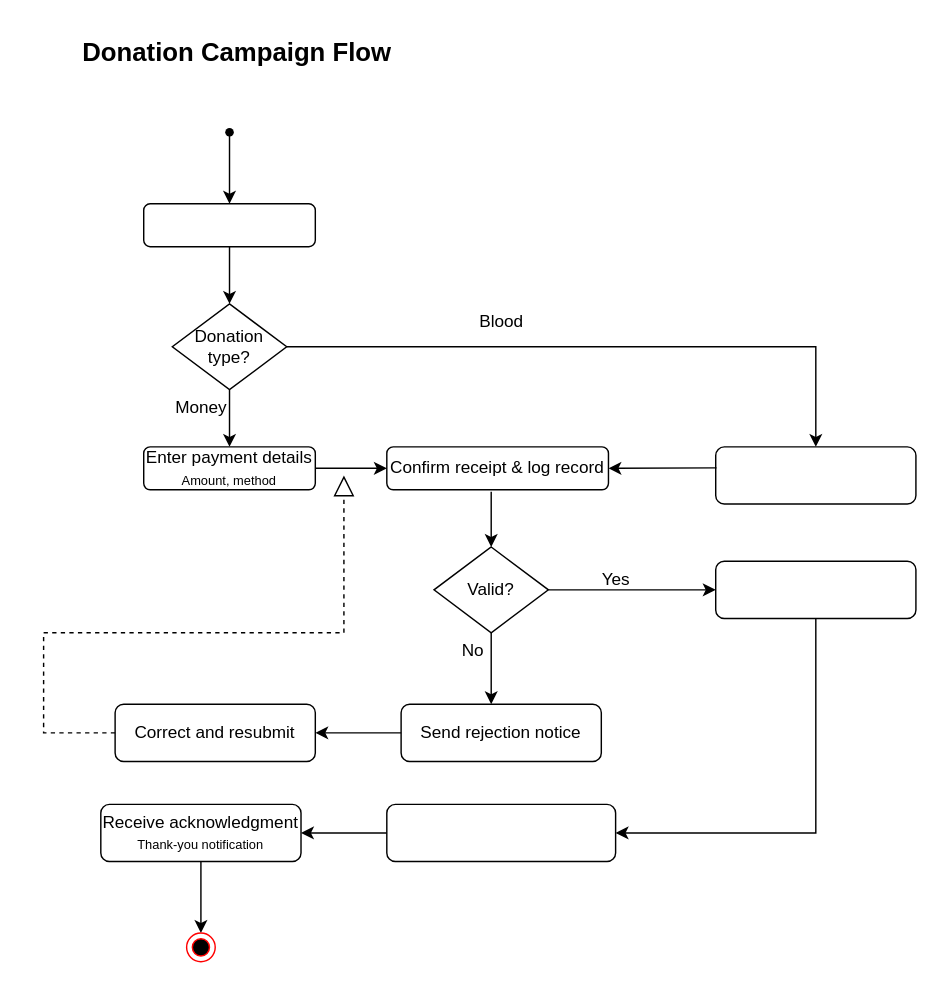
Image size: 941x987. Some labels were removed from this diagram. The shapes that lost their labels are listed below. From the top down, each one's box as (x1, y1, x2, y2) in pixels, then its label:
(142, 202, 315, 247): Visit donation page
(714, 445, 916, 504): Submit blood donor form Type, availability, contact
(714, 560, 916, 618): Admin verifies donation
(385, 803, 616, 862): Allocate to campaign / stock Update dashboard
